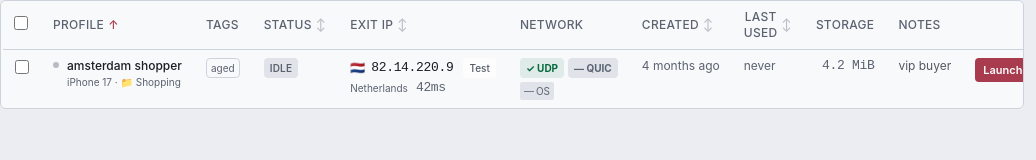
Test case: ProfilesTable › notes: an existing note renders clickable for editing
Click the button titled "Click to edit note" at (925, 66), box [898,58,951,74]
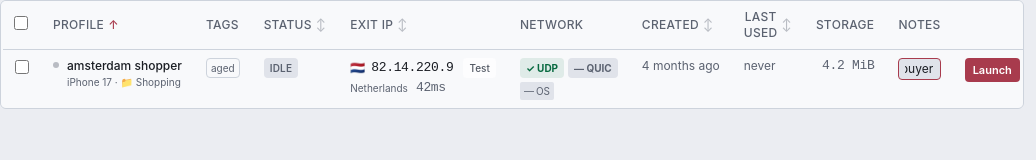
Expected: the checkbox named "Select amsterdam shopper" is shown, [15,60,29,74]
Expected: the field named "Note for amsterdam shopper" holds "vip buyer", [898,58,941,80]
